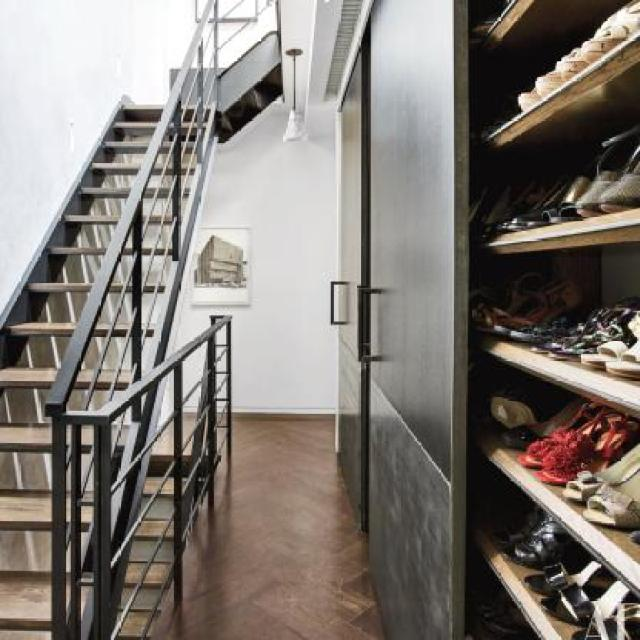stair: (0, 23, 242, 639)
